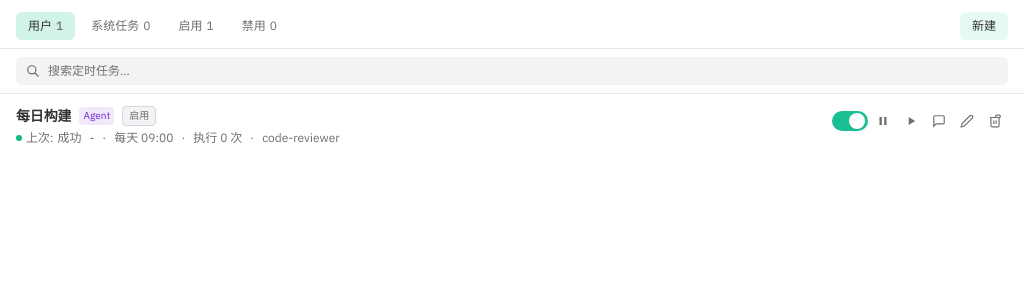
能力类任务：会话列表与跳转（B2） › 加载中：给出加载呈现
Click the button "每日构建 Agent 启用 上次: 成功 - · 每天 09:00 · 执行 0 次 · code-reviewer" at (44, 116), box top-left (16, 106), bottom-right (820, 146)
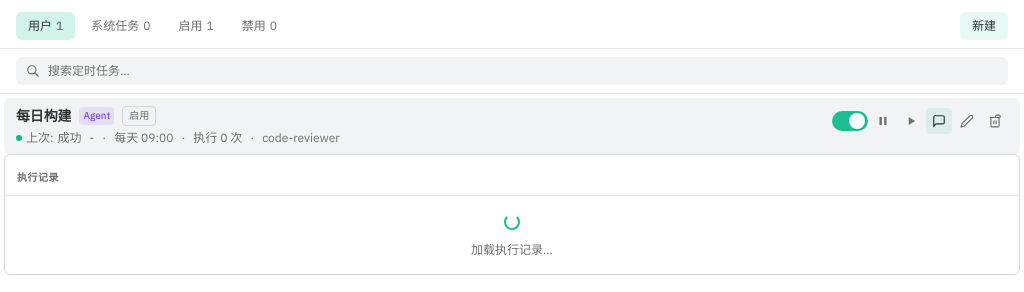
Expected: the text "加载执行记录..." is shown, top-left (471, 242), bottom-right (553, 257)
